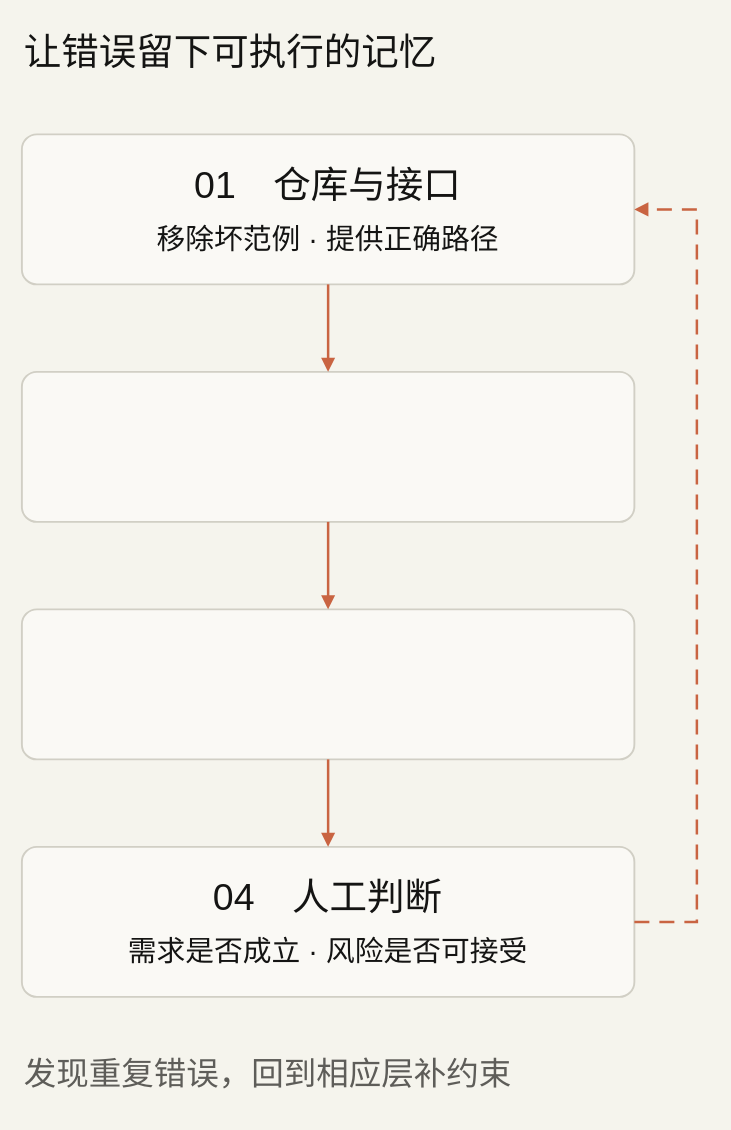
Some shapes in this 731 by 1130 pixel diagram are drawn without their labels. The centre of each missing label's shape, as x and y in pixels:
02 确定性检查 类型 · lint · 依赖边界: the point at 327,446
03 真实行为验证 用户路径 · 失败场景 · 断言: the point at 327,684
